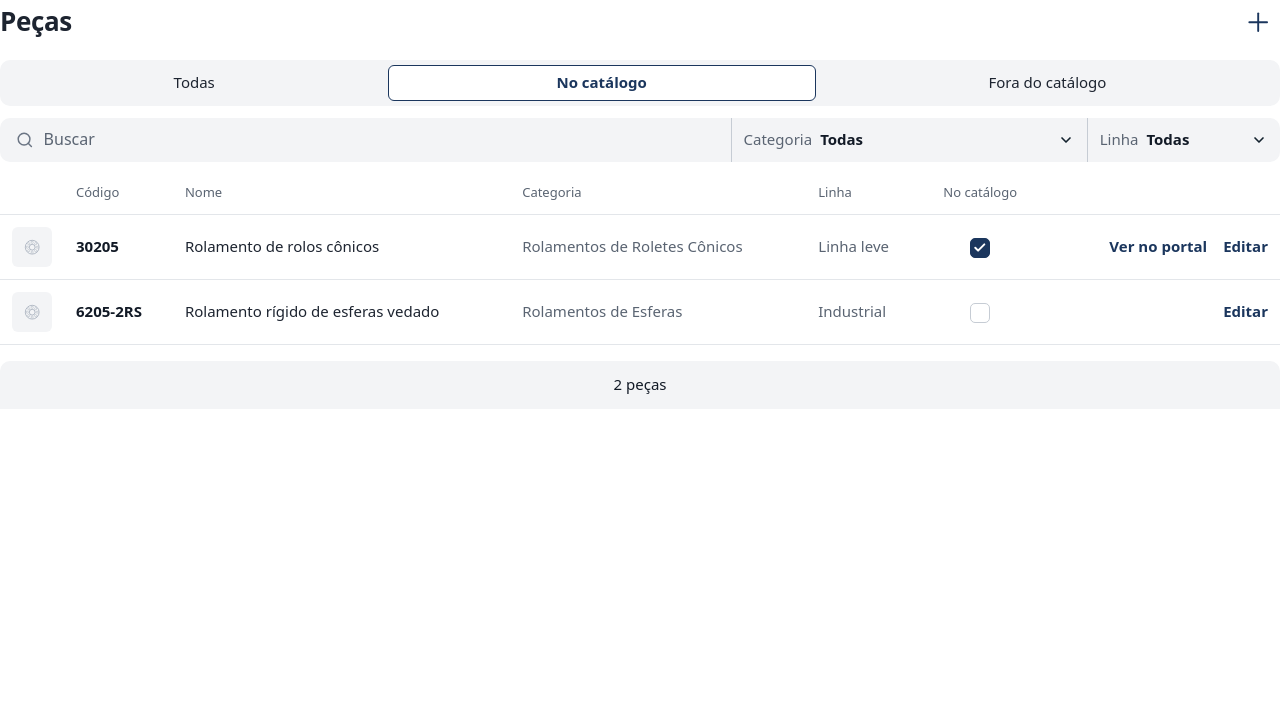
Test: Lista de peças › clicar em qualquer ponto da linha abre a janela da peça, mantendo os filtros
Click the text "Rolamento de rolos cônicos": (342,247) [173, 214, 510, 279]
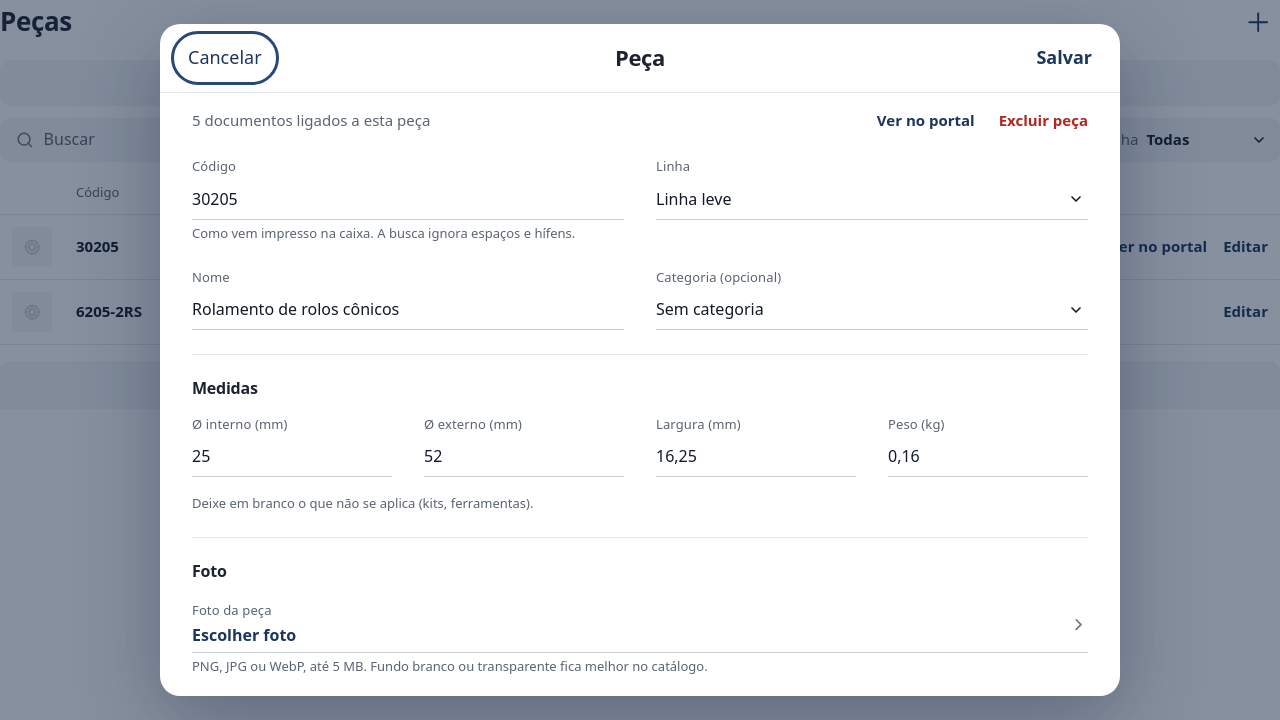
expect the dialog "Peça" is shown: met
